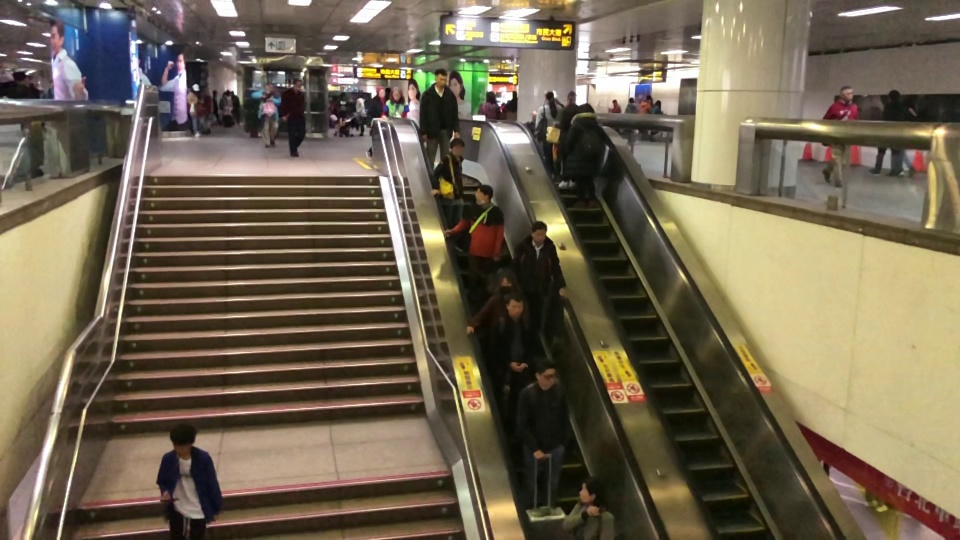person_head: (166, 423, 201, 458), (529, 361, 556, 390), (577, 474, 599, 506), (879, 88, 905, 111), (472, 181, 495, 206), (501, 295, 523, 320), (434, 177, 456, 199), (834, 82, 855, 105), (491, 269, 514, 289), (529, 220, 548, 244), (430, 69, 452, 89), (447, 136, 465, 156), (577, 101, 595, 120), (541, 90, 559, 108), (482, 89, 499, 108), (387, 86, 404, 103), (188, 79, 202, 96), (372, 83, 385, 99), (565, 89, 577, 106), (652, 94, 663, 111), (260, 83, 274, 96), (624, 95, 635, 111), (291, 77, 303, 90), (642, 91, 654, 103), (609, 97, 619, 109)
person_vbox: (502, 361, 573, 515), (431, 180, 506, 320), (147, 423, 224, 540), (516, 218, 573, 358), (481, 294, 545, 408), (563, 100, 622, 203), (813, 81, 863, 189), (463, 269, 517, 361), (417, 68, 463, 174), (868, 86, 915, 182), (556, 473, 618, 540), (427, 174, 466, 255), (243, 82, 284, 149), (553, 86, 581, 184), (532, 90, 563, 176), (428, 134, 466, 204), (280, 76, 311, 158), (181, 79, 208, 140), (363, 82, 382, 163), (383, 84, 411, 126), (620, 96, 640, 154), (632, 88, 655, 133), (648, 90, 666, 138), (477, 88, 502, 122), (606, 97, 621, 133)
